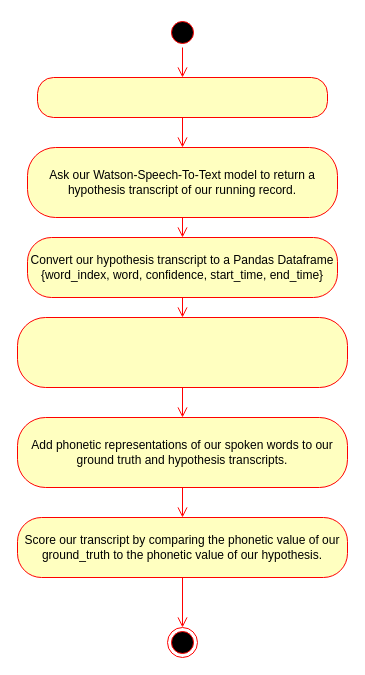
Image size: 365x675. Some labels were removed from this diagram. The centre of each missing label's shape, as x and y in pixels:
Convert our ground truth transcript into a Pandas Dataframe {word_index, word}: point (182, 352)
Initialize Running Record Object: point (182, 97)
